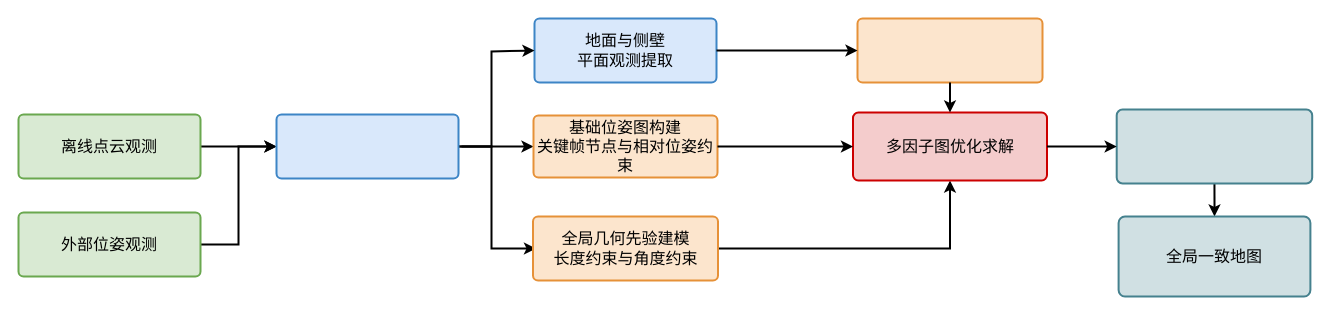
This 1330x314 diagram has some shape labels left out. Here are the shapes that lost their labels. From the top down, the centre of each, then its label:
At [949,50]: "局部几何辅助约束建模 地面约束与侧壁约束".
At [367,146]: "观测关联与 关键帧筛选".
At [1214,146]: "优化关键帧轨迹".
